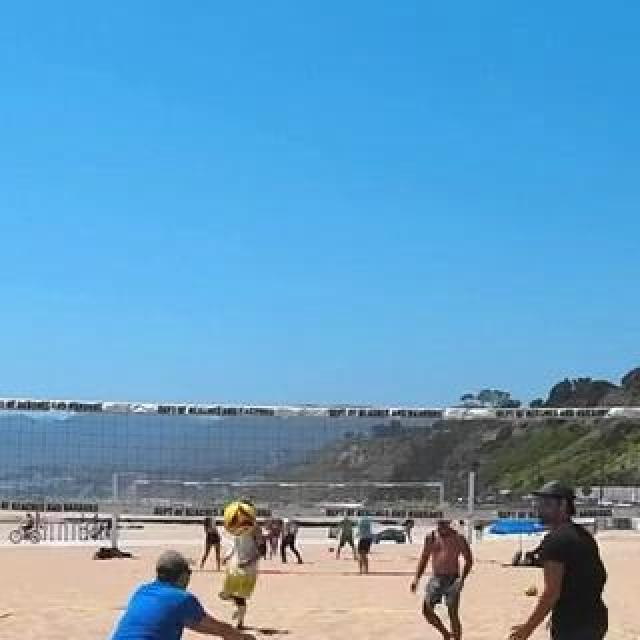volleyball: (221, 501, 257, 537)
